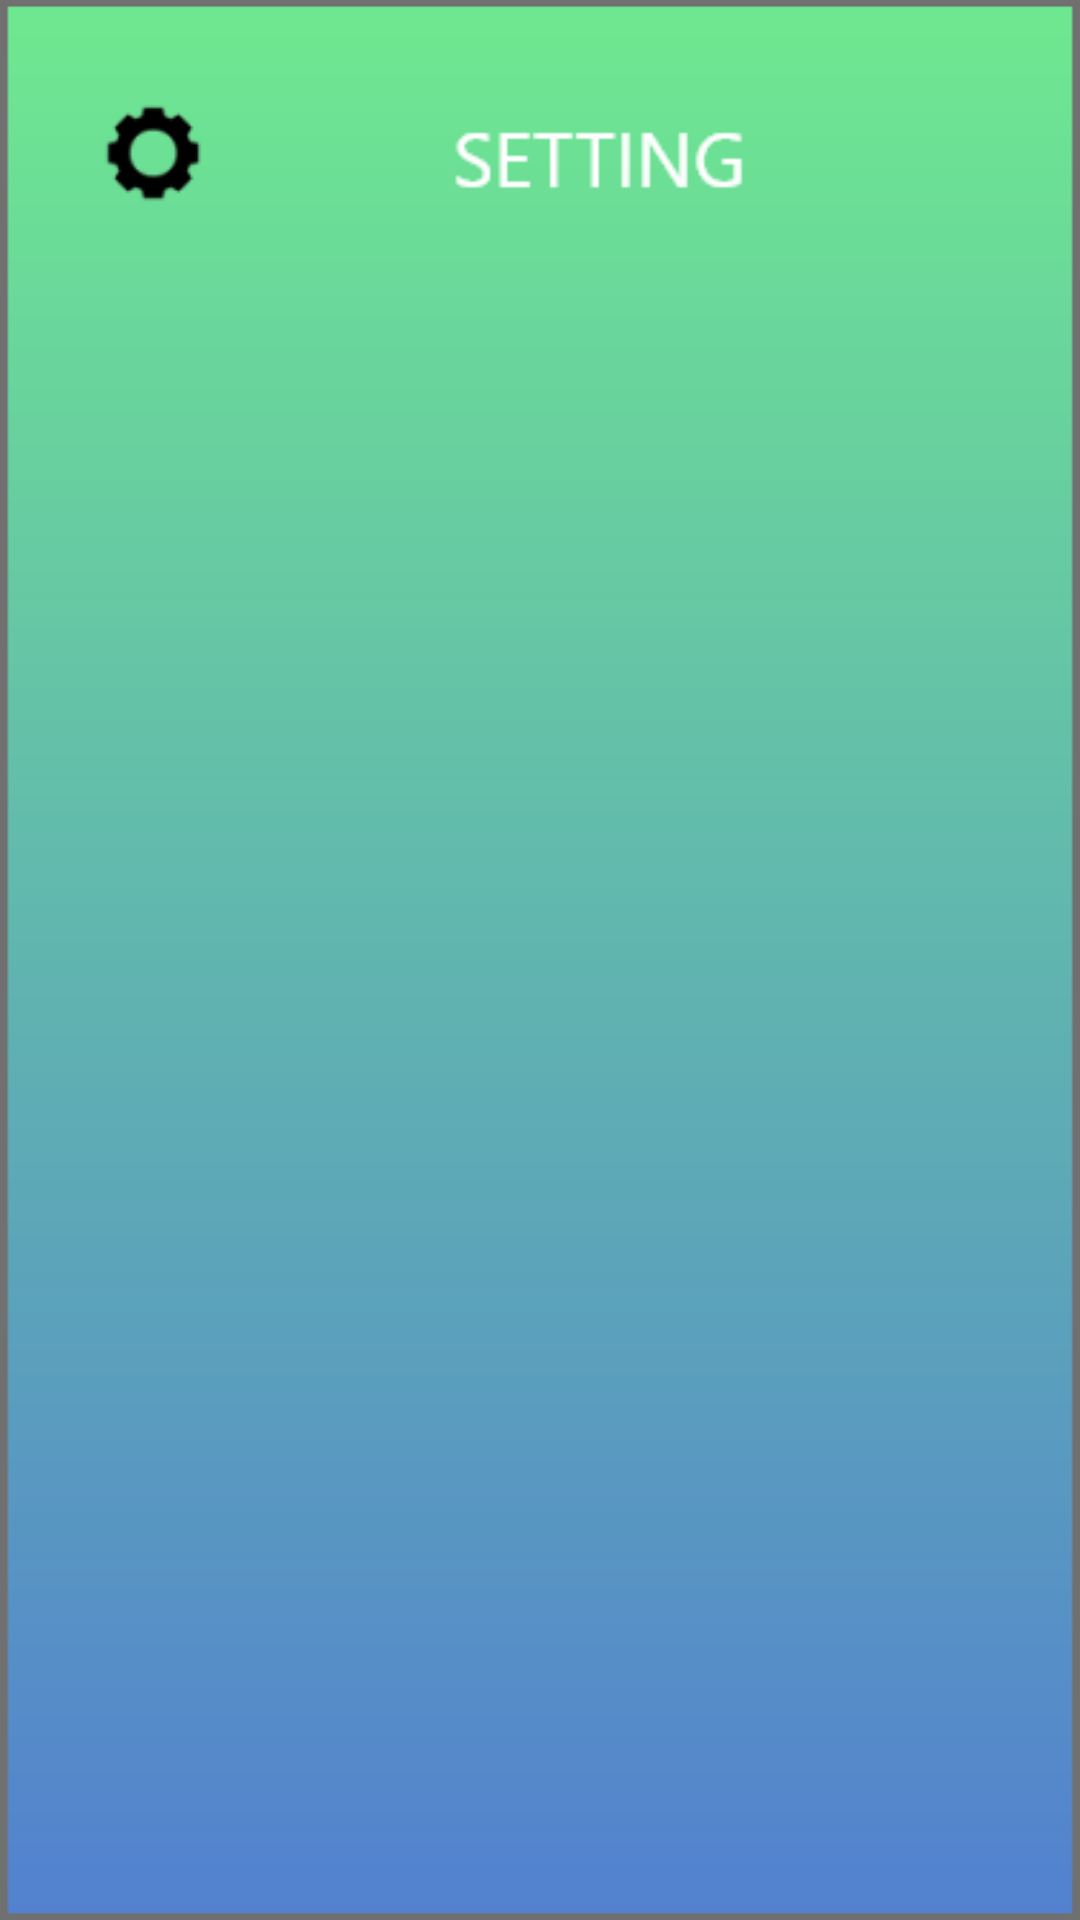

Where to tap for icons on this 1080px×1920px app screen, as [x,y]:
settingicon: [153,153]
